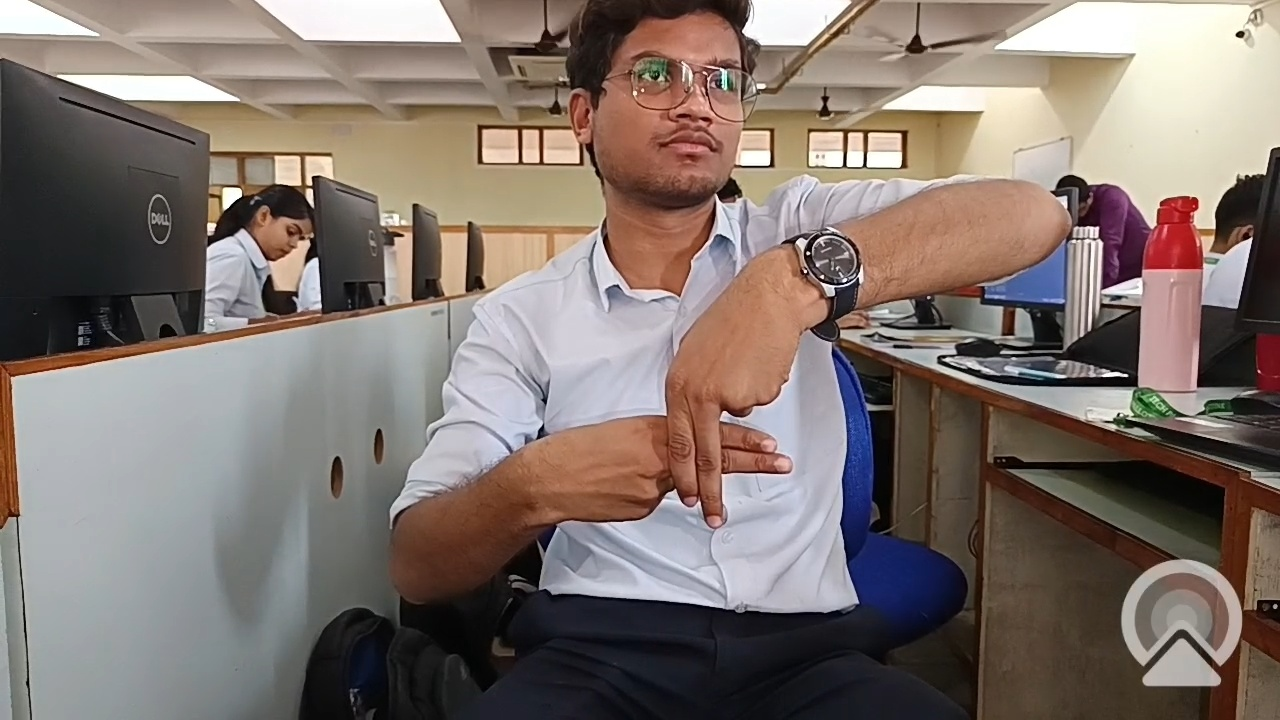F: (478, 273, 856, 549)
